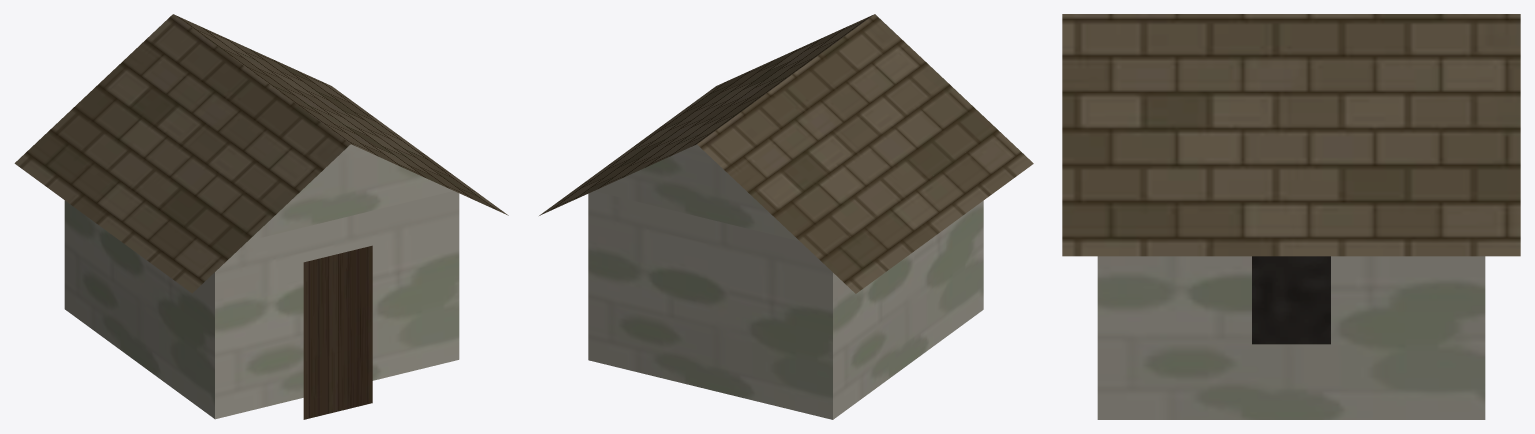
File: ae_forest_stone_small_hut_lod2.glb
The picture shows the model from 3 angles, left to right: view 1: azimuth 30°, elevation 25°; view 2: azimuth 150°, elevation 25°; view 3: azimuth 270°, elevation 25°; orthographic projection. The views are drawn at different scales.
Parts seen in each view (by area): view 1: ae_forest_stone_small_hut_lod2; view 2: ae_forest_stone_small_hut_lod2; view 3: ae_forest_stone_small_hut_lod2.
Boxes of the visible parts, x1,y1,x2,y2 form: ae_forest_stone_small_hut_lod2: [14, 14, 508, 419]; ae_forest_stone_small_hut_lod2: [539, 14, 1033, 419]; ae_forest_stone_small_hut_lod2: [1062, 14, 1520, 419].
Size of the model in its own units: 3.9 by 3.25 by 3.78.
1 material, 1 textured.
